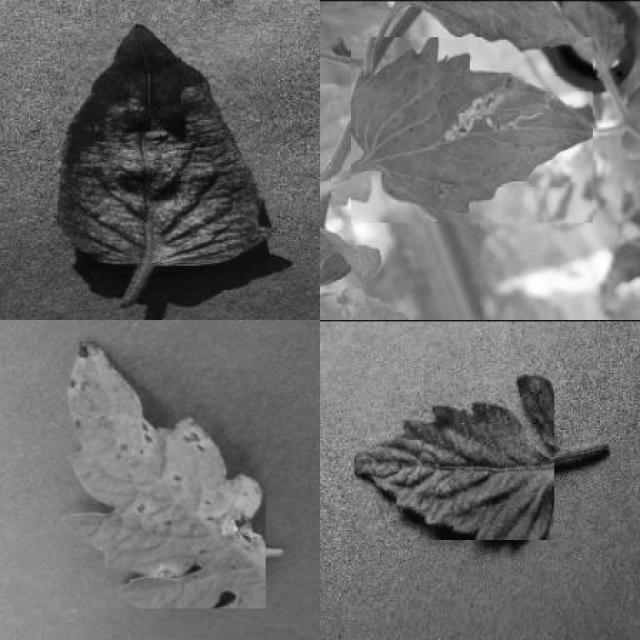Leaf Miner: (350, 37, 593, 223)
Mosaic Virus: (355, 374, 554, 540)
Septoria: (61, 342, 266, 608)
Spider Mites: (58, 23, 271, 266)
